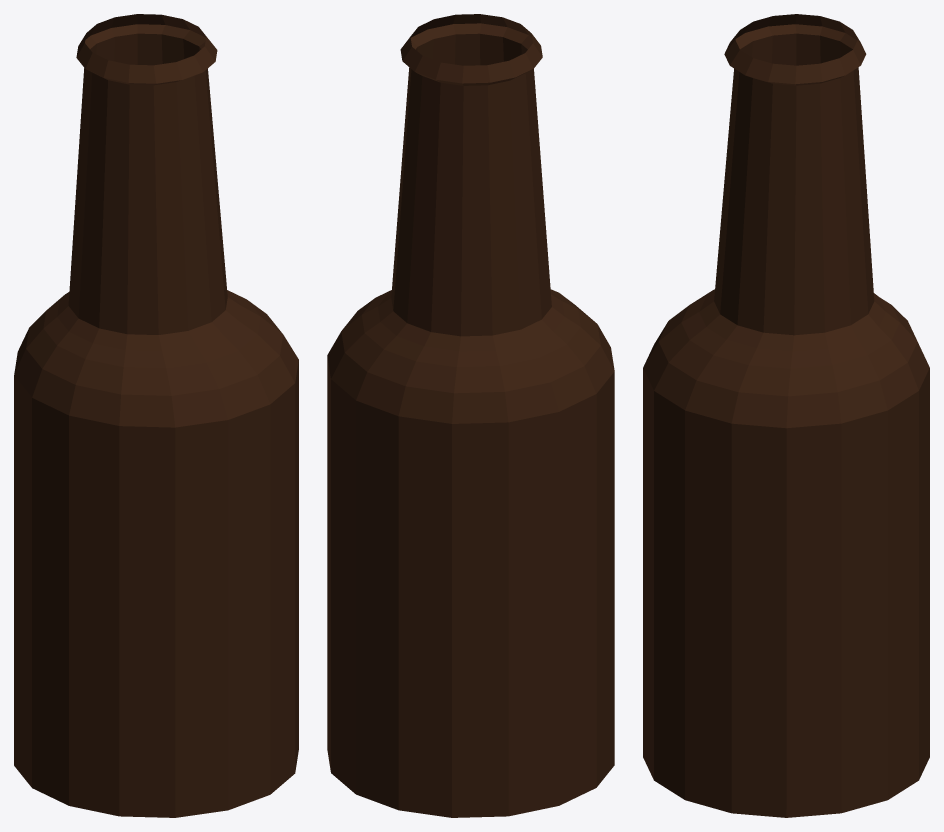
Rendered from beer_bottle.glb.
3 views of the same model, side by side, from view 1: azimuth 30°, elevation 25°; view 2: azimuth 150°, elevation 25°; view 3: azimuth 270°, elevation 25° (orthographic).
Visible parts, largest first — view 1: Cylinder; view 2: Cylinder; view 3: Cylinder.
Boxes of the visible parts, left/top/right/bottom form: Cylinder: left=14, top=14, right=298, bottom=817; Cylinder: left=327, top=14, right=614, bottom=817; Cylinder: left=643, top=14, right=929, bottom=817.
Size of the model in its own units: 0.07 by 0.1925 by 0.07.
